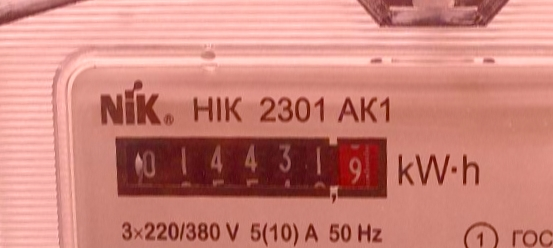0: (136, 145, 158, 179)
1: (172, 142, 192, 176), (309, 143, 324, 176)
3: (273, 142, 293, 174)
4: (203, 140, 226, 174), (239, 139, 258, 174)
9: (343, 153, 362, 185)
screen: (102, 117, 401, 216)
